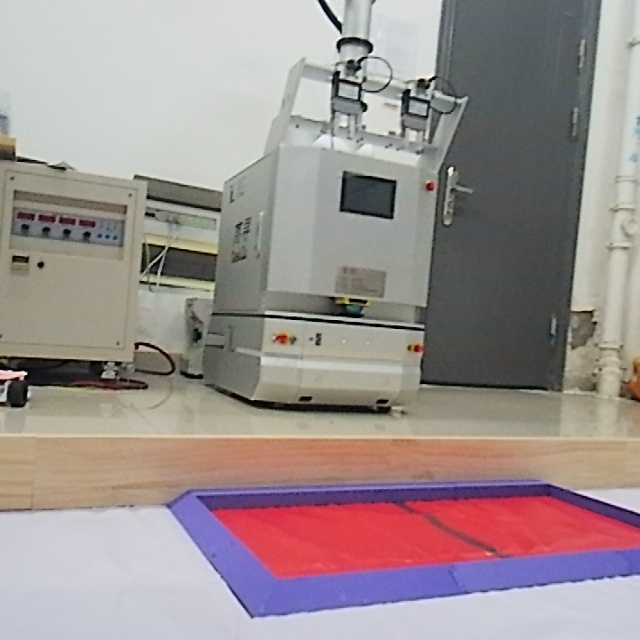zone1: (149, 472, 639, 619)
